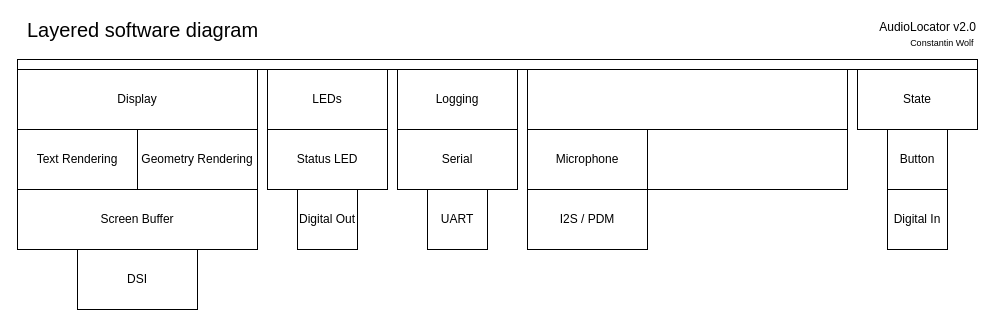
This 995x327 diagram has some shape labels left out. Each missing label, with the centre of its shape:
Digital Signal Processing: point 747,159
Direction: point 687,99
